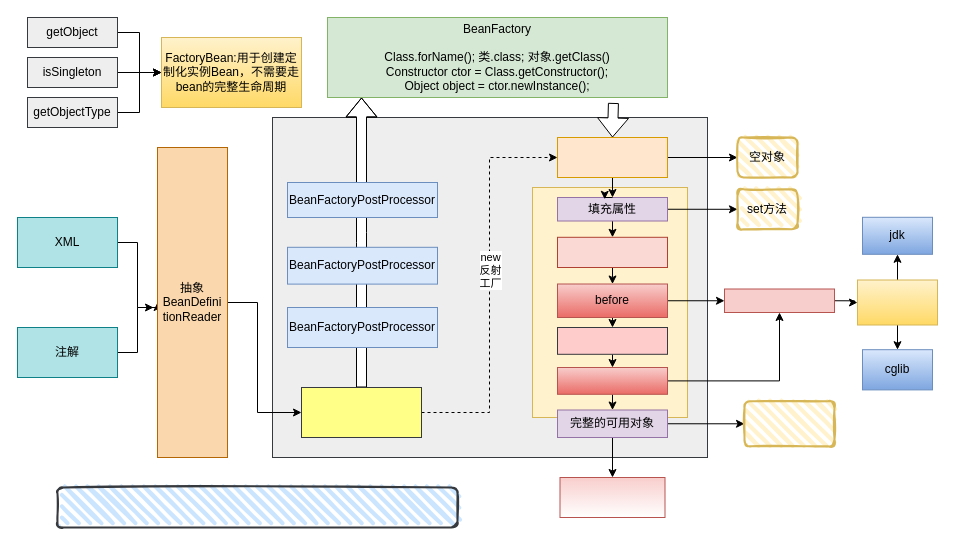
This 955x546 diagram has some shape labels left out. Here are the shapes that lost their labels. From the top down, the box of each, then its label:
(556, 136, 668, 178): Bean实例化
(556, 236, 668, 268): 调用aware接口 的方法
(724, 288, 834, 312): BeanPostProcessor
(856, 279, 938, 325): AOP
(556, 326, 668, 354): 调用init方法
(556, 366, 668, 394): after
(300, 386, 422, 438): BeanDefinition
(743, 400, 835, 447): context.getBean
(56, 486, 458, 528): 不同阶段做不同事情：监听器 （时间发布 多播器）观察者模式
(559, 476, 665, 518): 销毁
